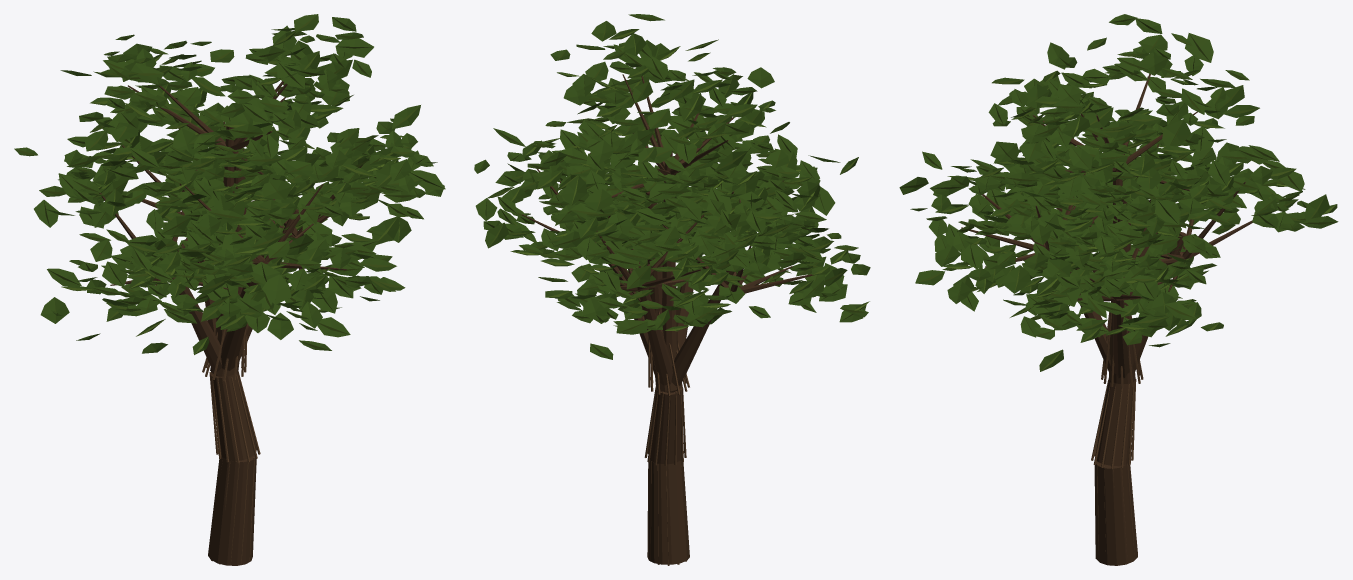
The model's file is orchard_tree_0.dae.
The picture shows the model from 3 angles, left to right: view 1: azimuth 30°, elevation 25°; view 2: azimuth 150°, elevation 25°; view 3: azimuth 270°, elevation 25°; orthographic projection. The views are drawn at different scales.
Parts seen in each view (by area): view 1: Tree (×4); view 2: Tree (×4); view 3: Tree (×4).
Boxes of the visible parts, bbox=[...] form: Tree (×4): bbox=[14, 14, 445, 565]; Tree (×4): bbox=[474, 14, 870, 565]; Tree (×4): bbox=[899, 14, 1338, 565].
Size of the model in its own units: 2.82 by 2.85 by 3.72.
